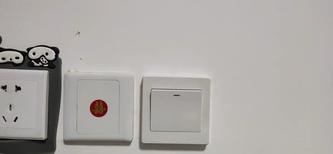switch: (148, 89, 203, 134)
